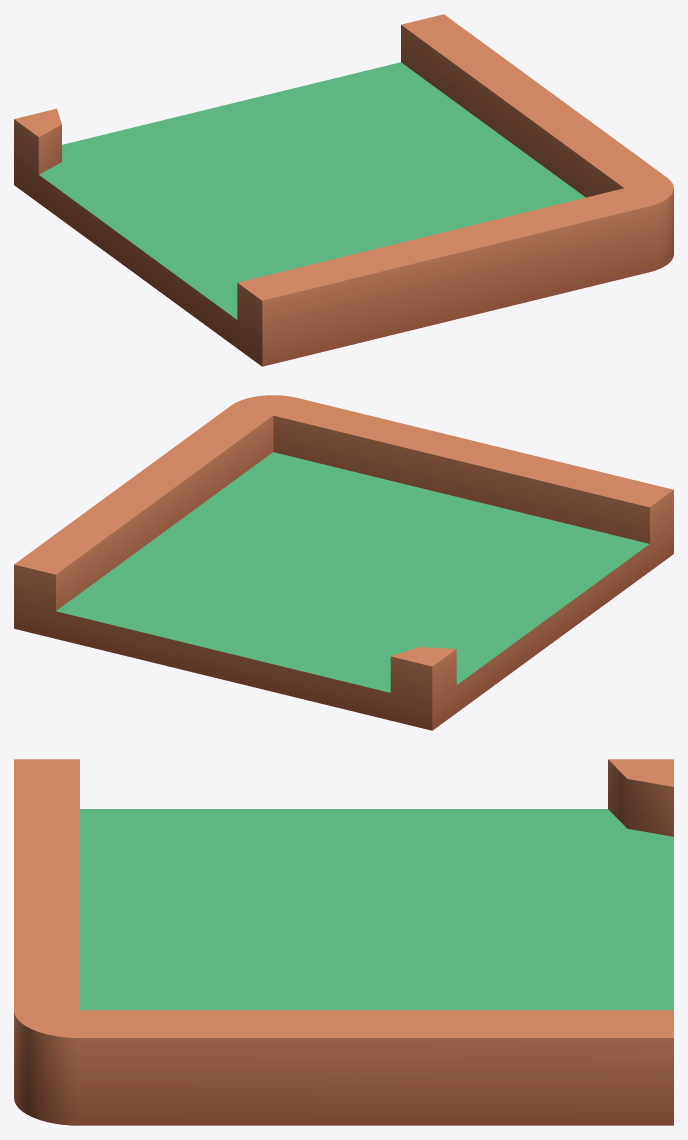
Rendered from square-corner-a.glb.
3 views of the same model, one above another, from view 1: azimuth 30°, elevation 25°; view 2: azimuth 150°, elevation 25°; view 3: azimuth 270°, elevation 25° (orthographic). The views are drawn at different scales.
Parts seen in each view (by area): view 1: square-corner-a; view 2: square-corner-a; view 3: square-corner-a.
Boxes of the visible parts, bbox=[...] form: square-corner-a: bbox=[14, 14, 673, 366]; square-corner-a: bbox=[14, 395, 673, 730]; square-corner-a: bbox=[14, 759, 673, 1125].
Bounding box in the file's own units: 0.9999 × 0.1466 × 0.9999.
Materials: 1 (1 with a texture image).
